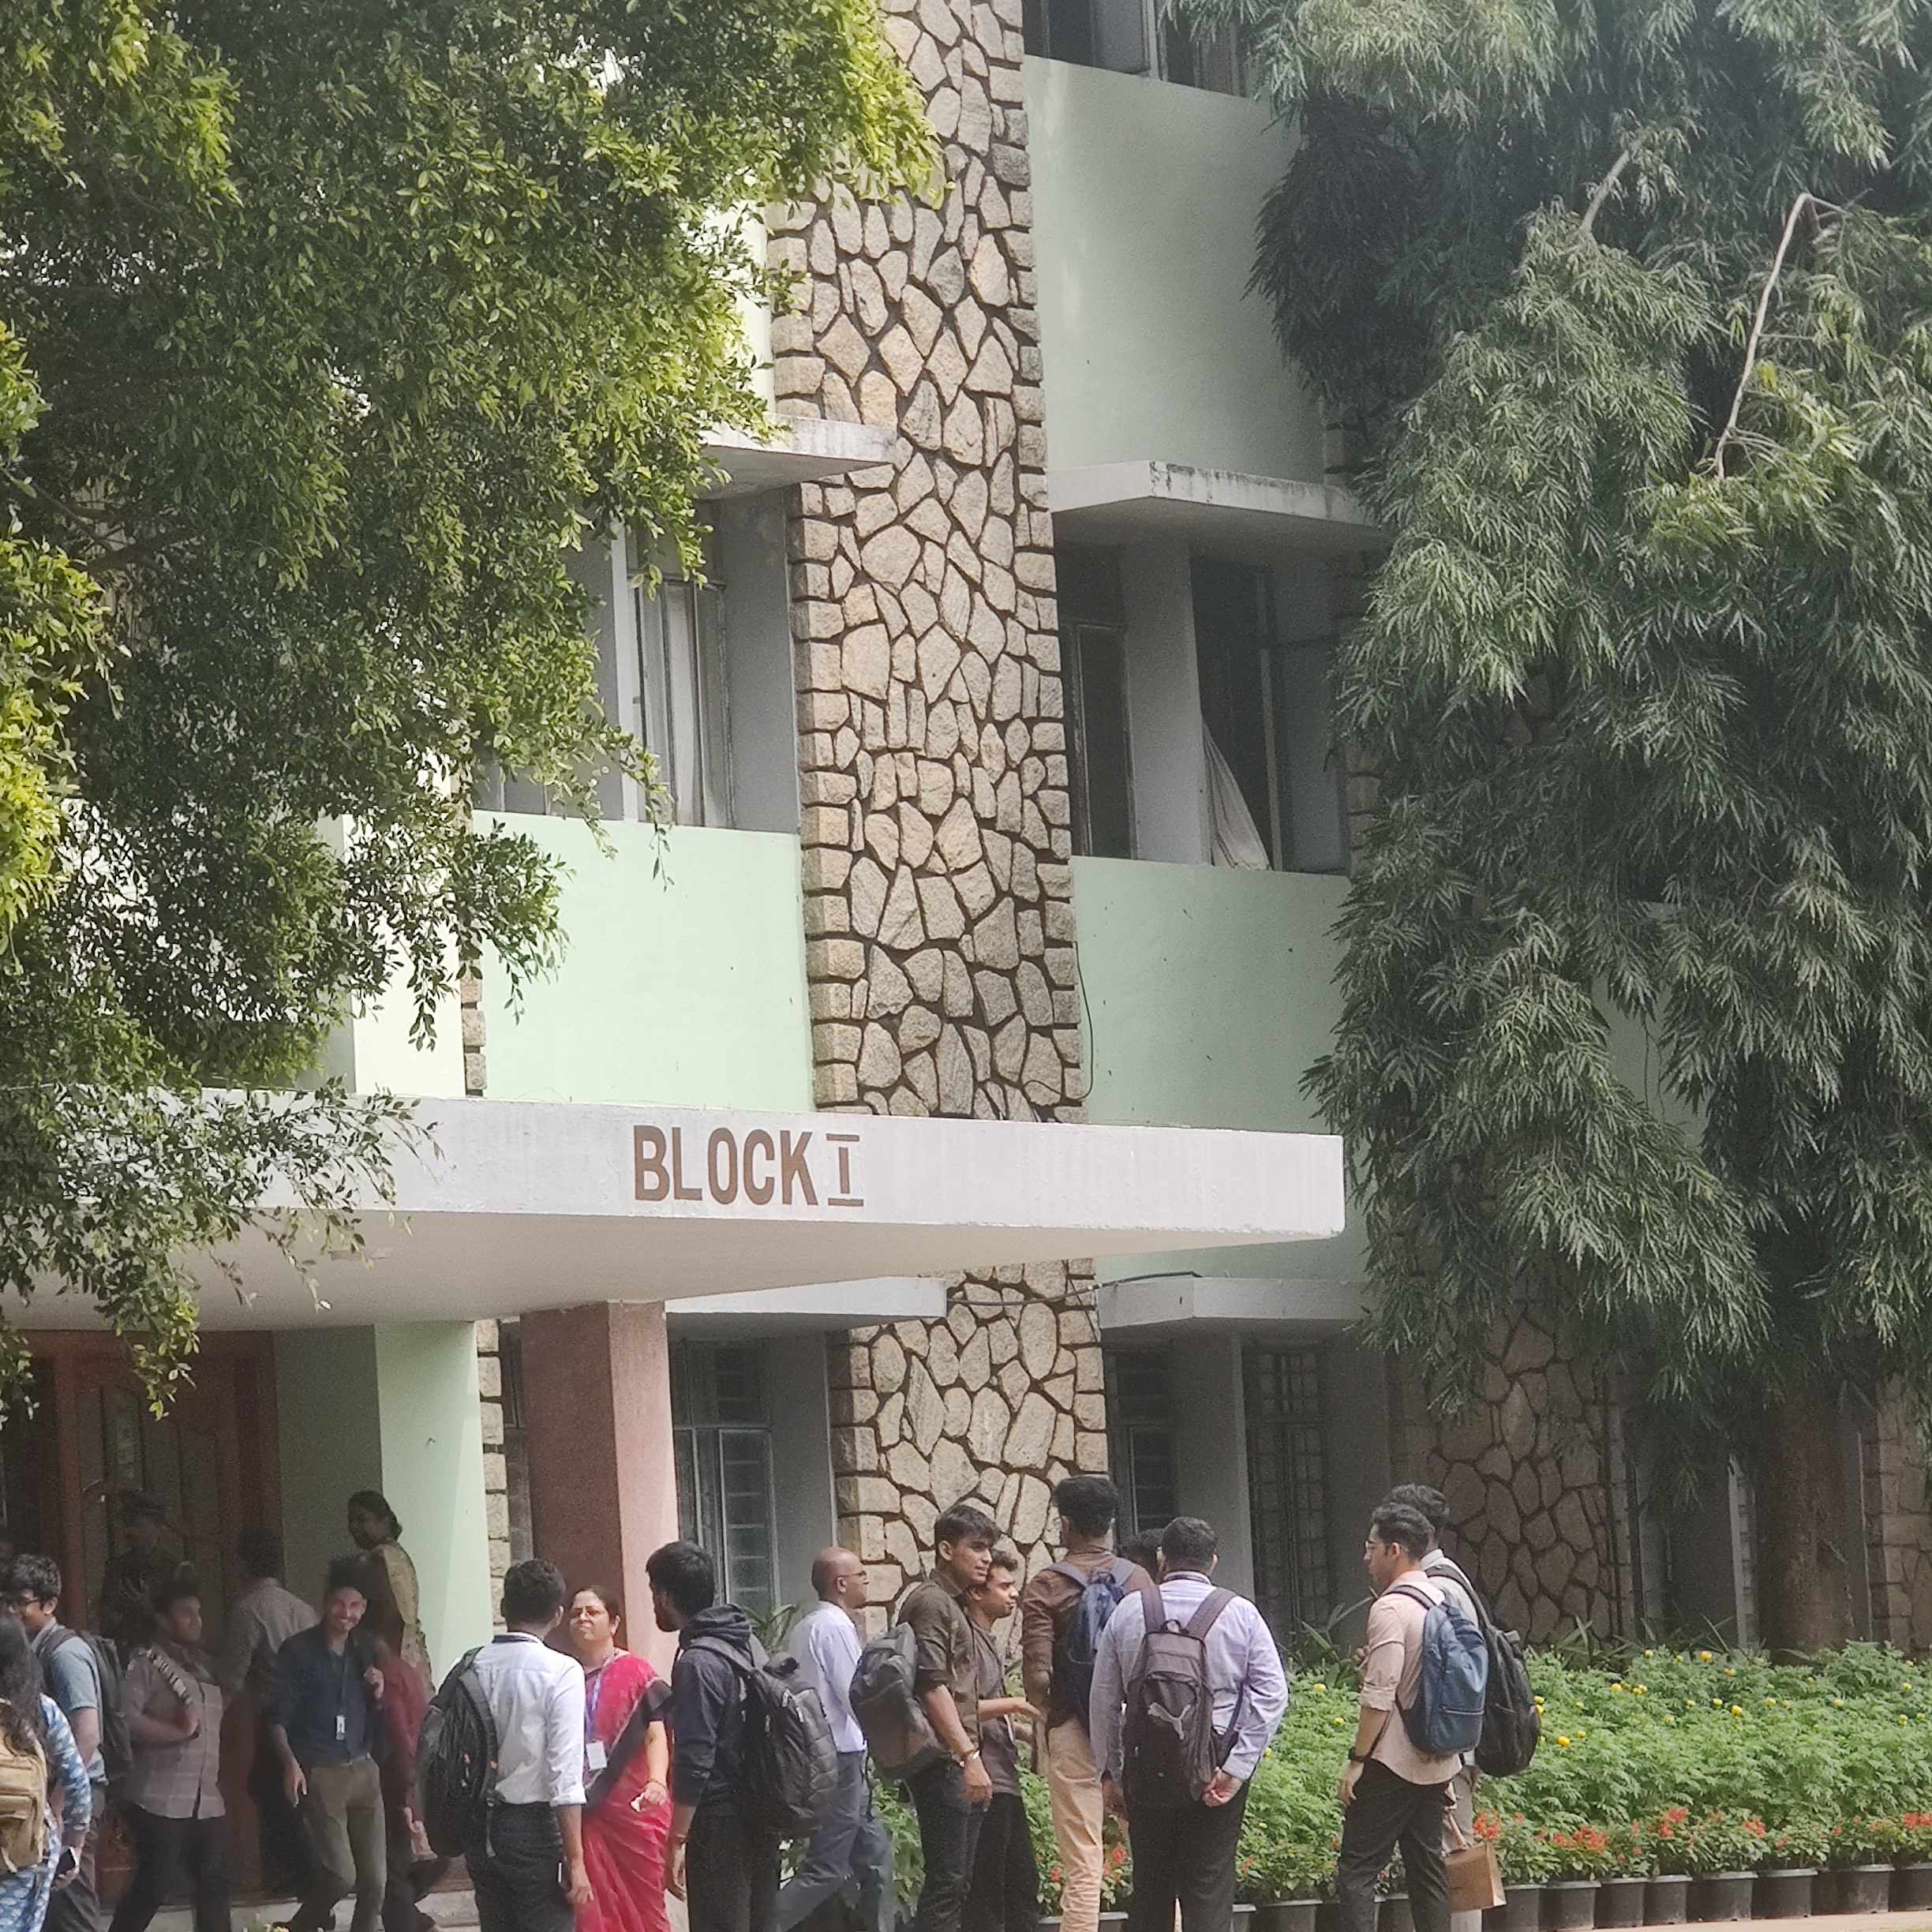Block 1: (241, 30, 1727, 1578)
